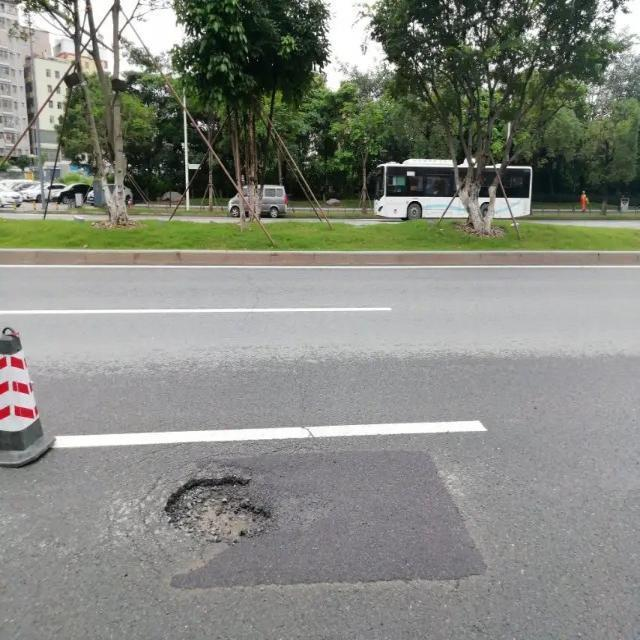Buraco: (161, 474, 278, 550)
